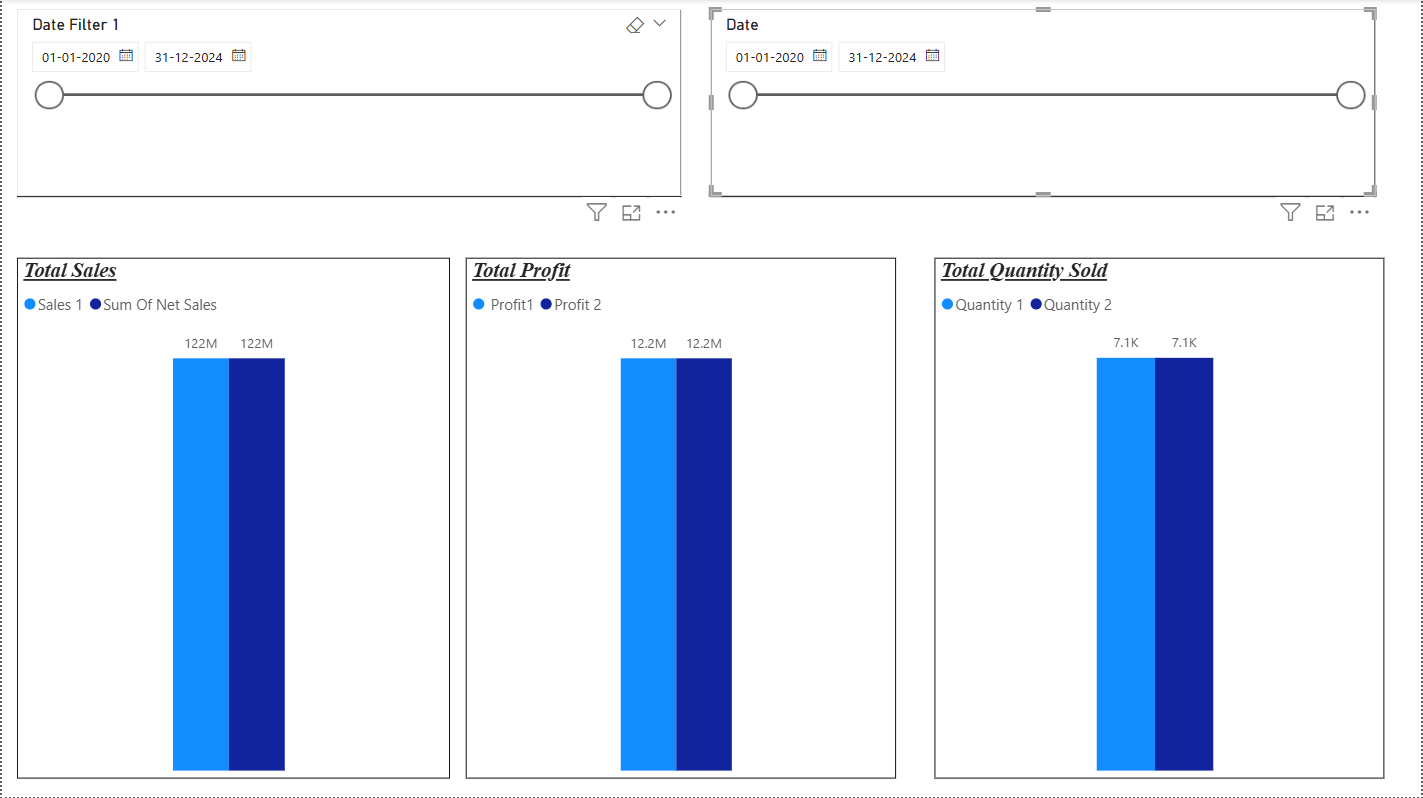

What the dashboard file says about the page in this screenshot:
{"tool":"powerbi","page":{"name":"Req 4","canvas":[1280,720],"ordinal":2},"visuals":[{"type":"slicer","fields":{"Values":["Date Table 1.Date"]},"box":[13.5,8.6,599.2,170],"z":0},{"type":"slicer","fields":{"Values":["Date Table 2.Date"]},"box":[639.5,8.6,599.2,170],"z":1000},{"type":"clusteredColumnChart","title":"Total Sales ","fields":{"Y":["Sum(Fact Table.Net Sales )","Date Table 1.Sum Of Net Sales"]},"box":[13.5,233.6,390.1,469.6],"z":2000},{"type":"clusteredColumnChart","title":"Total Profit","fields":{"Y":["Sum(Fact Table.Profit)","Measures Table.Total Profit"]},"box":[418.2,233.6,387.6,469.6],"z":3000},{"type":"clusteredColumnChart","title":"Total Quantity Sold","fields":{"Y":["Sum(Fact Table.Units Sold)","Measures Table.Quantity sold"]},"box":[841.3,233.6,406,469.6],"z":4000}]}

Visuals, with their boxes in screenshot pixels (x1, y1, x2, y2), scaled from the page's 1280x720 canvas onto the 1423x798 screenshot:
slicer - Date Table 1.Date: BBox(15, 10, 681, 198)
slicer - Date Table 2.Date: BBox(711, 10, 1377, 198)
"Total Sales " clusteredColumnChart: BBox(15, 259, 449, 779)
"Total Profit" clusteredColumnChart: BBox(465, 259, 896, 779)
"Total Quantity Sold" clusteredColumnChart: BBox(935, 259, 1387, 779)
